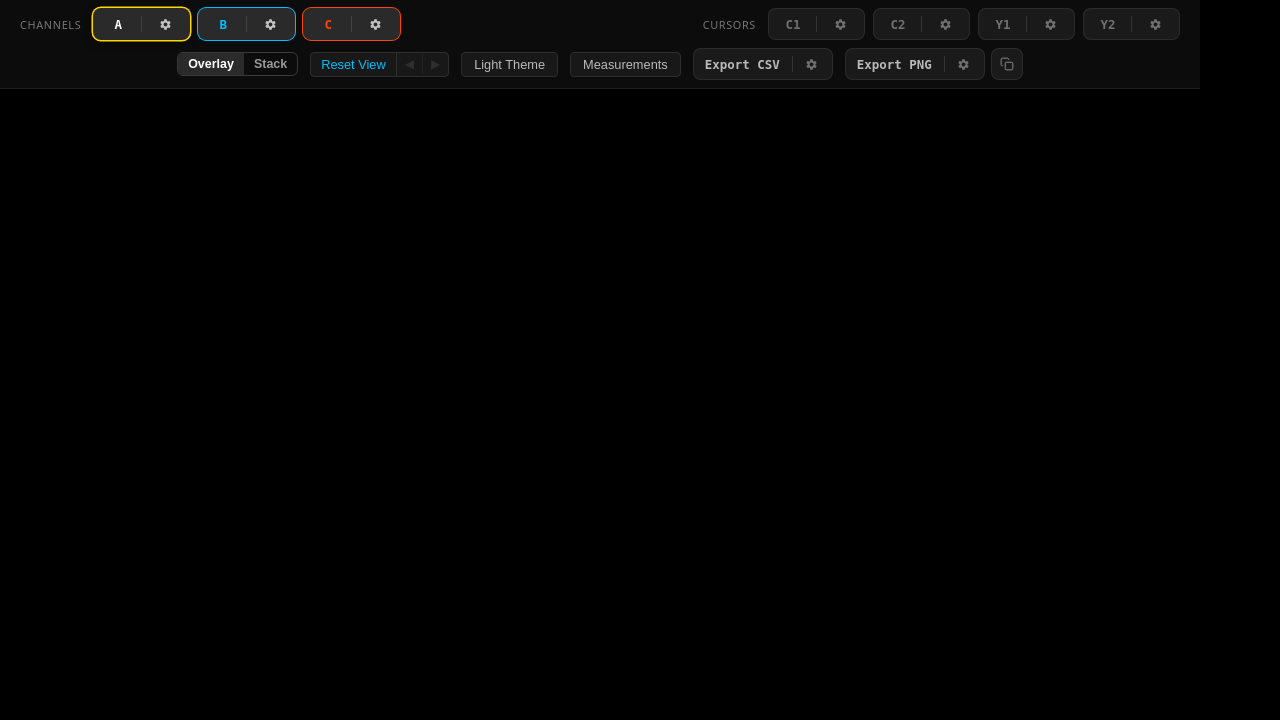
CursorFeatureJumpSection (issue #314) › disables Prev and Next buttons with explanatory label when bound channel is hidden
Click the button named "Configure Cursor C1". click: coordinates (841, 24)
box: [817,0,865,48]
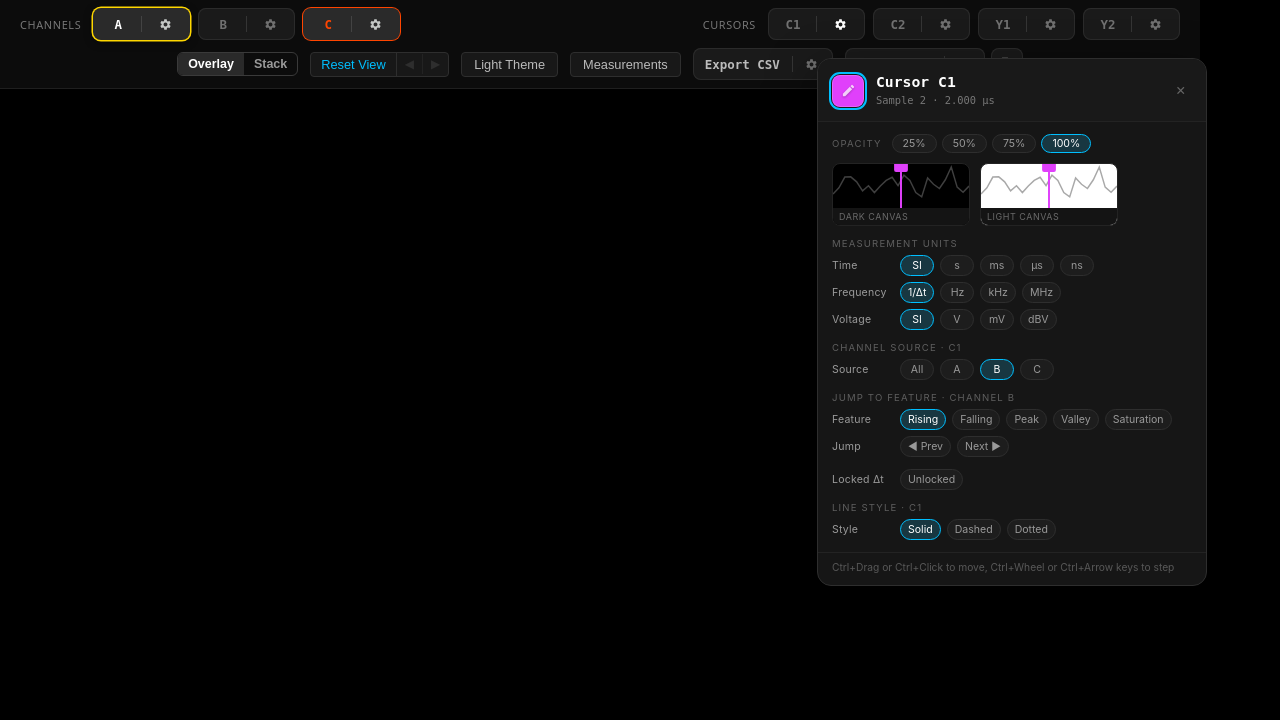
Check: the element with test id "cursor-feature-jump-section" is shown, box [832,392,1192,457]
Check: the button with test id "cursor-find-prev-btn" is disabled, box [900,436,951,457]
Check: the button with test id "cursor-find-next-btn" is disabled, box [957,436,1009,457]
